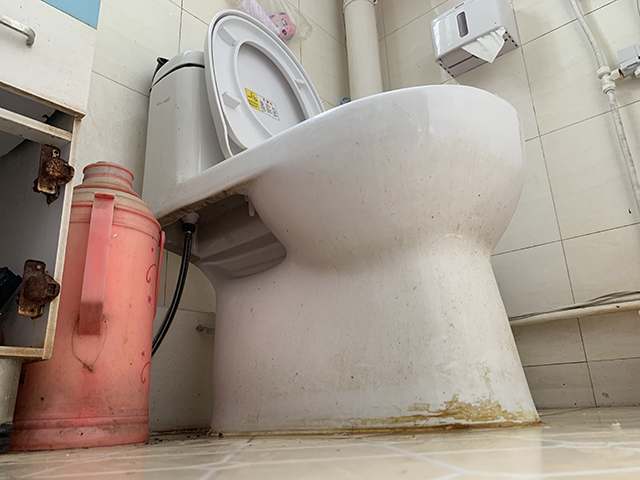closestool: (141, 7, 544, 436)
